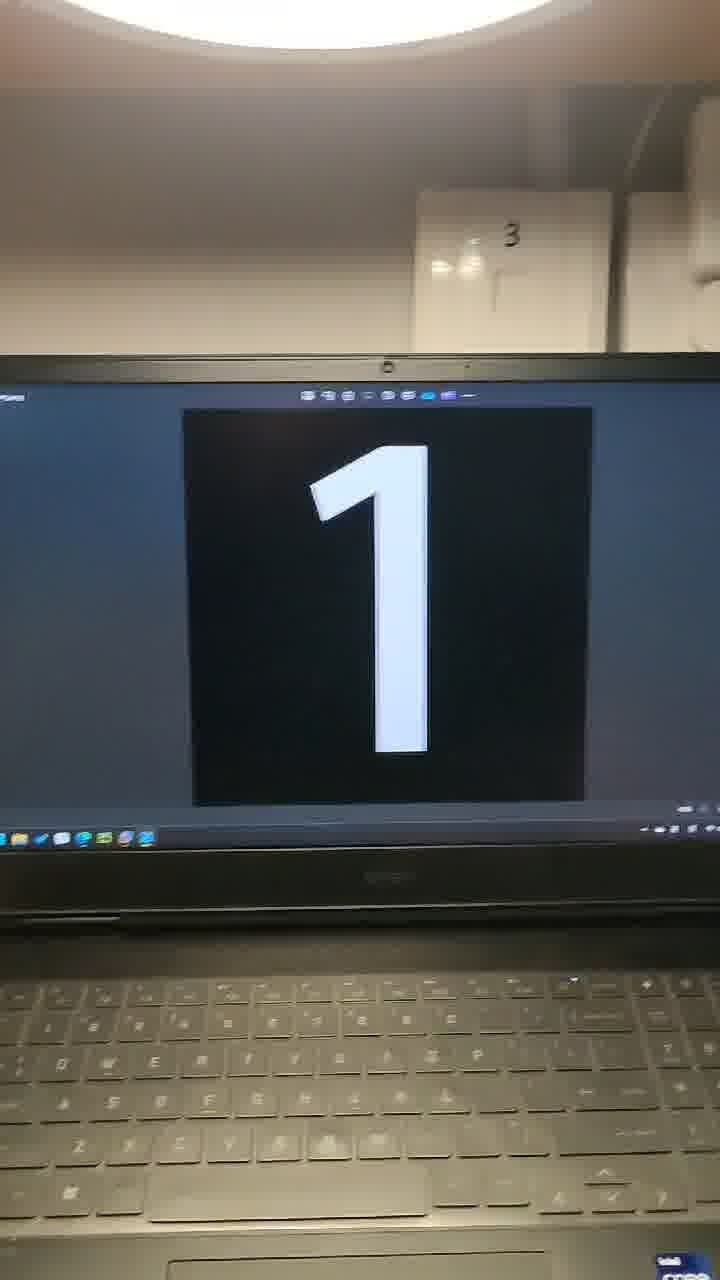one: (279, 396, 536, 799)
